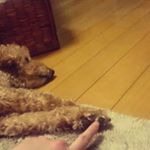puppy: (1, 41, 58, 97)
